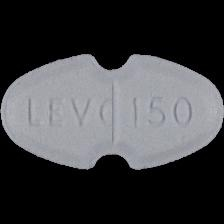60793-858: (0, 0, 224, 224)
